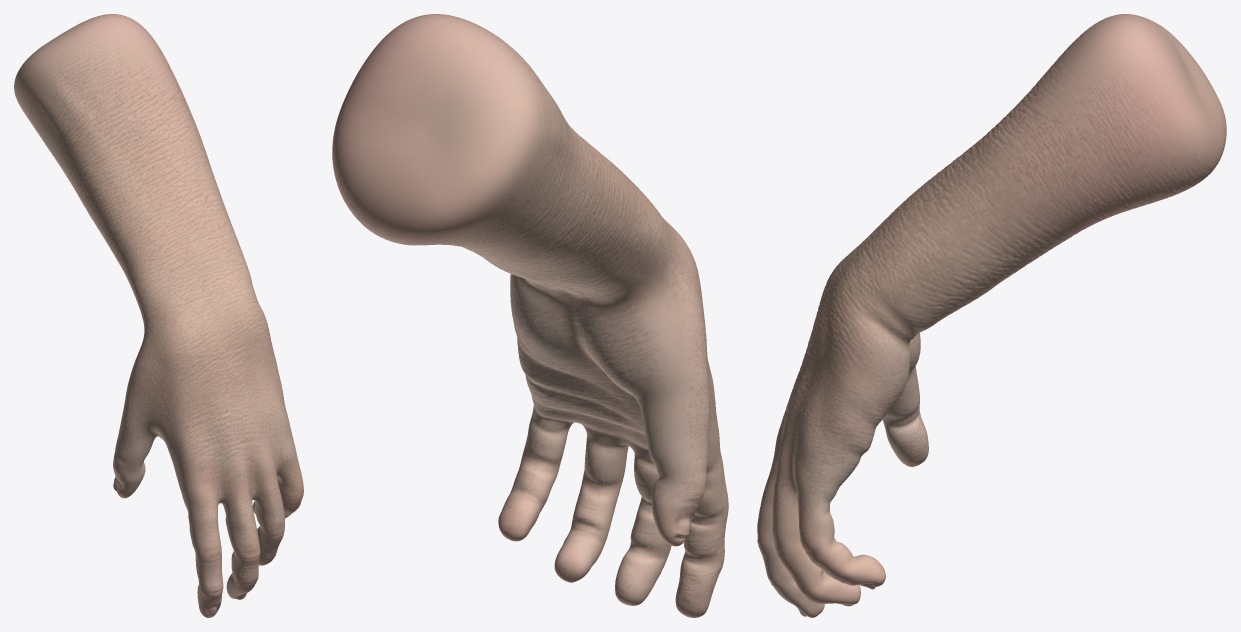
The model's file is hand_sculpt.glb.
3 renders of one model, left to right at view 1: azimuth 30°, elevation 25°; view 2: azimuth 150°, elevation 25°; view 3: azimuth 270°, elevation 25°, orthographic. The views are drawn at different scales.
Visible parts, largest first — view 1: Quad Sphere_Material_0; view 2: Quad Sphere_Material_0; view 3: Quad Sphere_Material_0.
Part boxes in pixels (<box>): Quad Sphere_Material_0: <box>14,14,303,617</box>; Quad Sphere_Material_0: <box>332,14,728,617</box>; Quad Sphere_Material_0: <box>757,14,1226,617</box>.
Bounding box in the file's own units: 0.4889 × 1.5 × 1.06.
